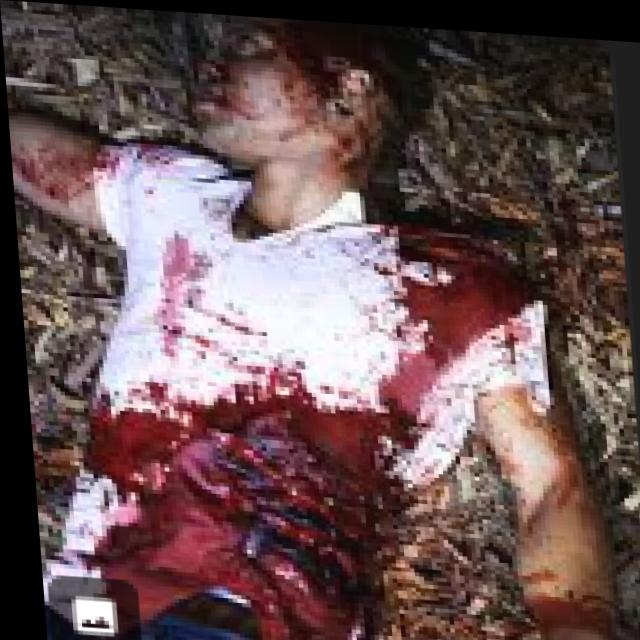injury: (163, 388, 366, 640), (171, 27, 445, 187)
